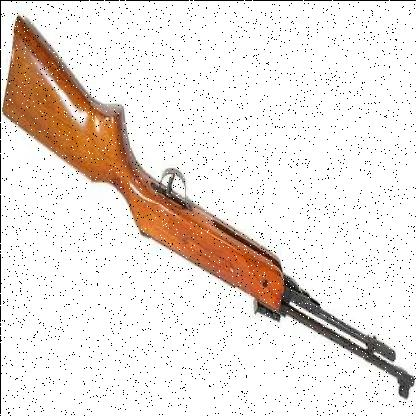rifle: (8, 13, 415, 409)
